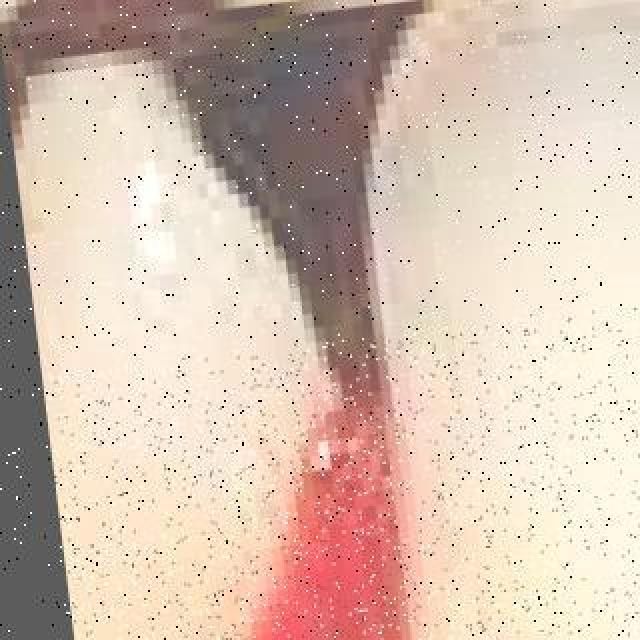spacing: (198, 20, 454, 552)
